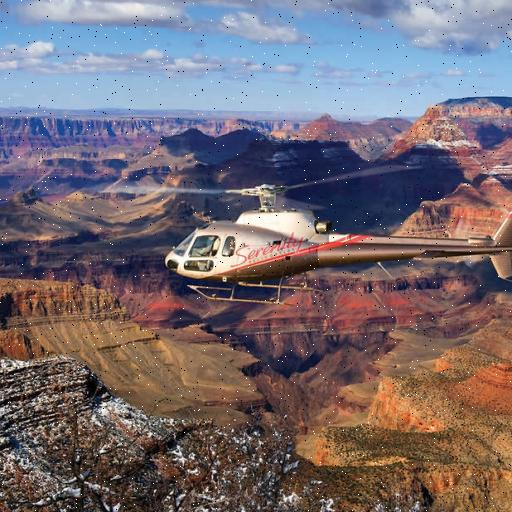helicopter: (118, 166, 512, 312)
